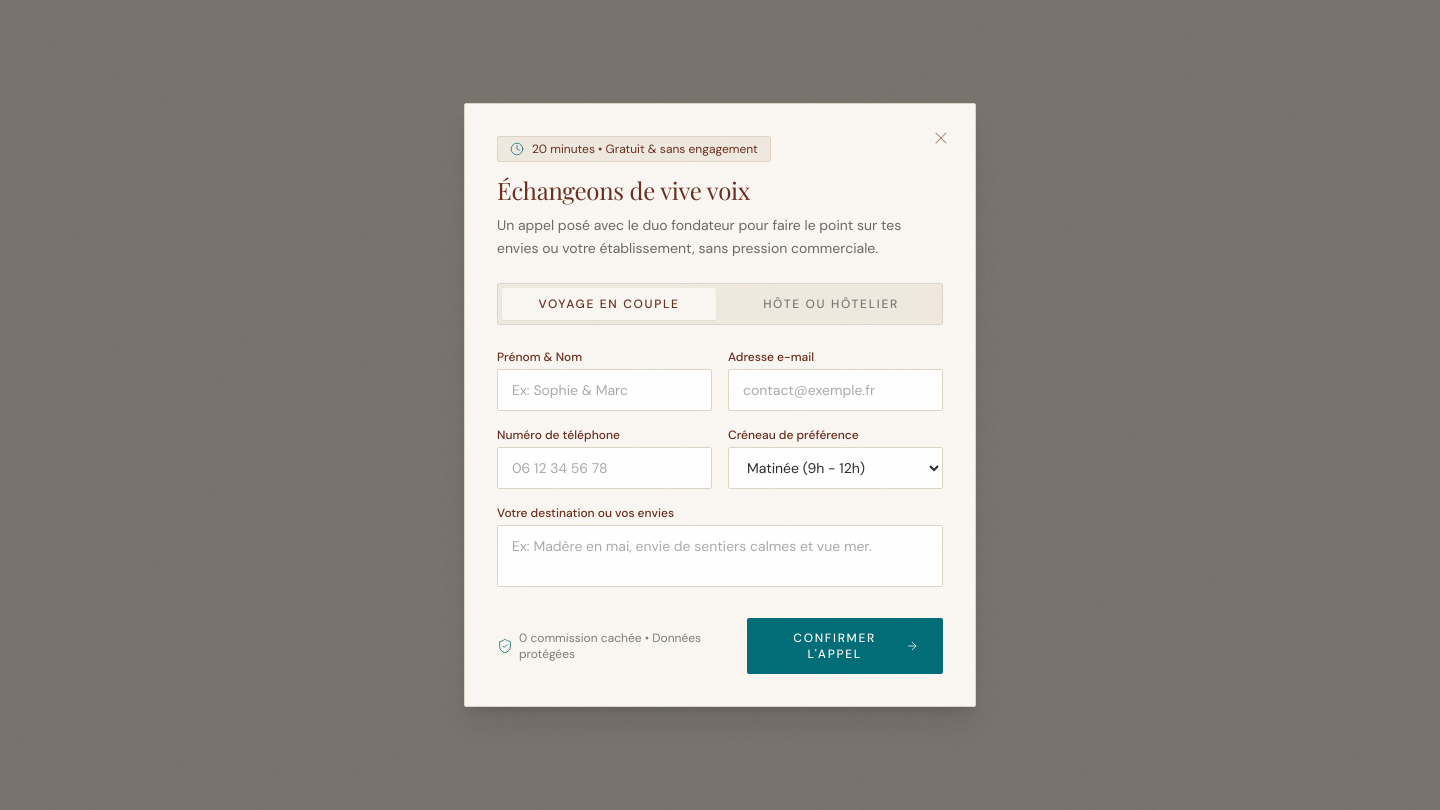
Test: DiscoveryCallModal › switches audience to hotelier when clicked
Click the button "Hôte ou hôtelier" at (831, 304), box [724,288,938,320]
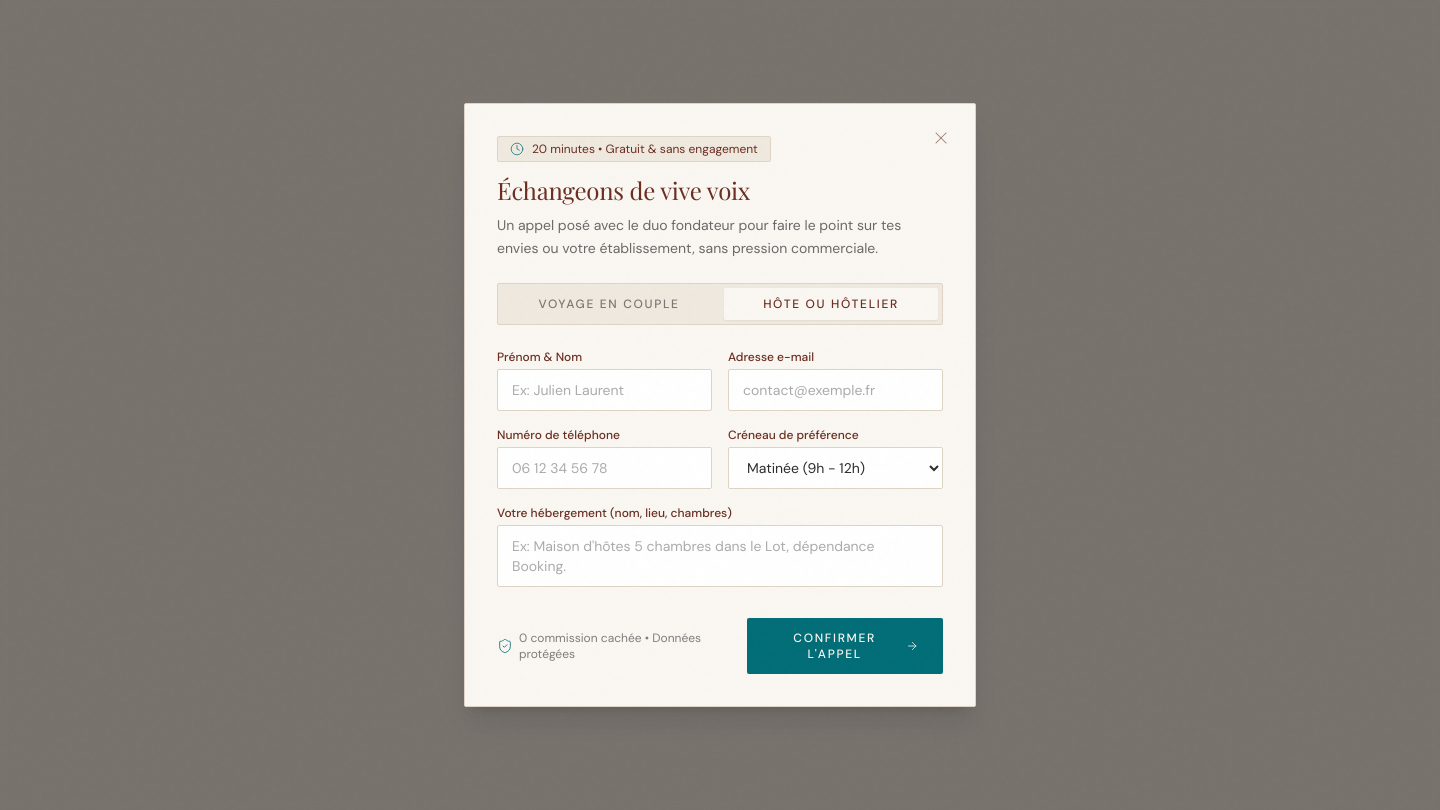
Check: the field with placeholder "Ex: Julien Laurent" is shown, box [497,369,712,411]
